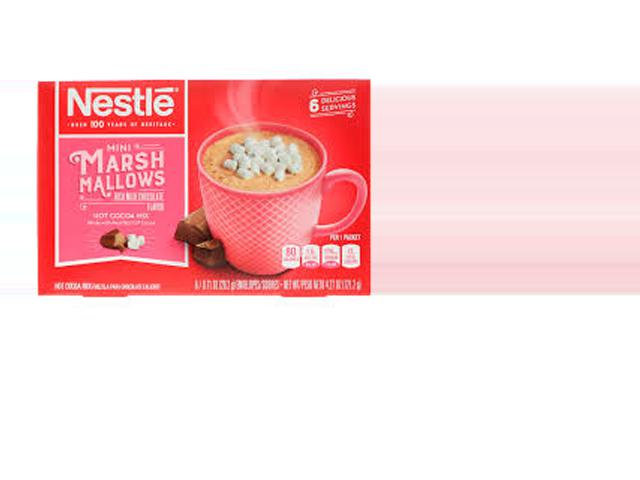chocolate: (44, 86, 372, 308)
